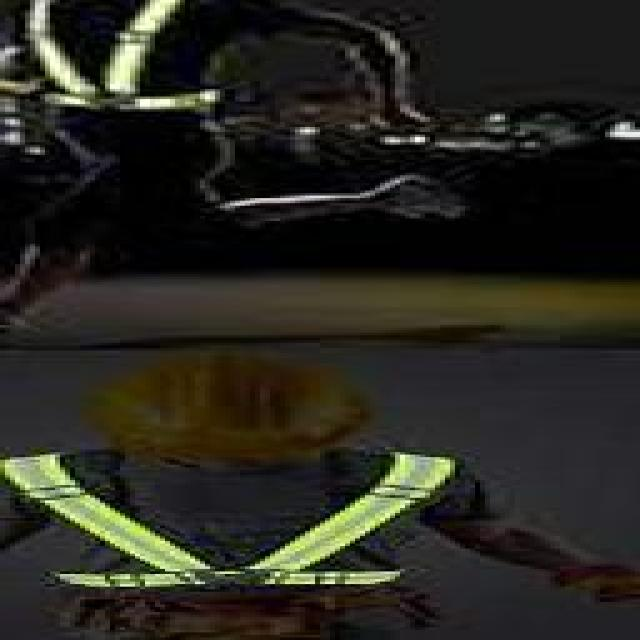Vest: (9, 445, 457, 614), (0, 0, 234, 123)
